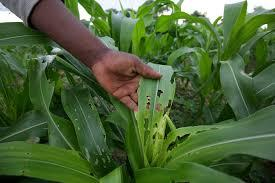fallarmy_worm: (144, 94, 152, 114)
